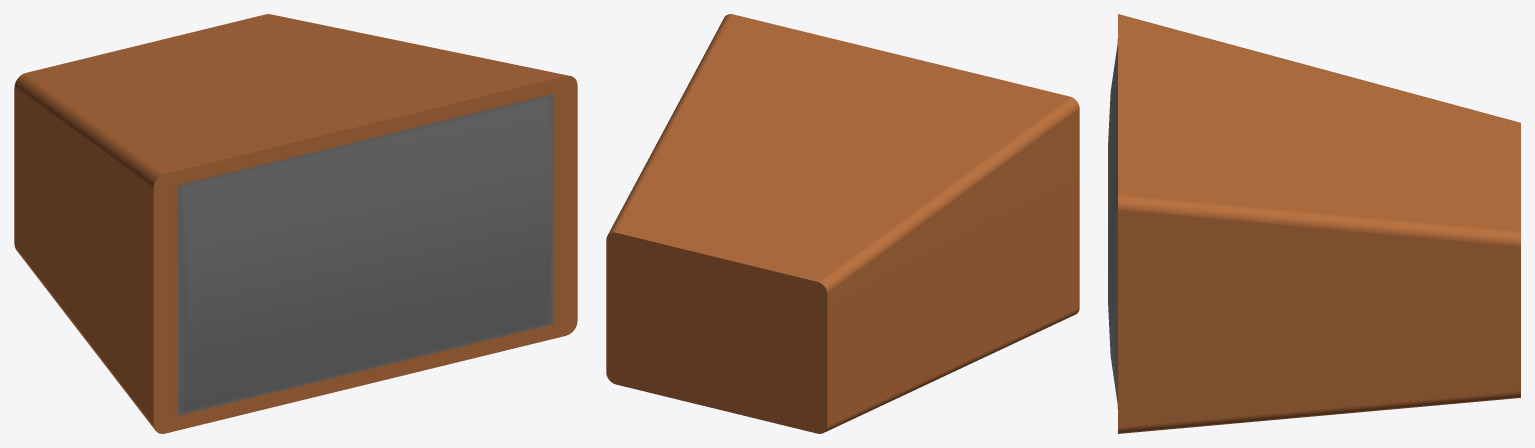
The model's file is A_Moniter.fbx.
3 renders of one model, left to right at view 1: azimuth 30°, elevation 25°; view 2: azimuth 150°, elevation 25°; view 3: azimuth 270°, elevation 25°, orthographic. The views are drawn at different scales.
Visible parts, largest first — view 1: A_Moniter; view 2: A_Moniter; view 3: A_Moniter.
Boxes of the visible parts, left/top/right/bottom form: A_Moniter: left=14, top=14, right=577, bottom=433; A_Moniter: left=606, top=14, right=1079, bottom=433; A_Moniter: left=1108, top=14, right=1520, bottom=433.
Size of the model in its own units: 2.96 by 1.73 by 2.72.
